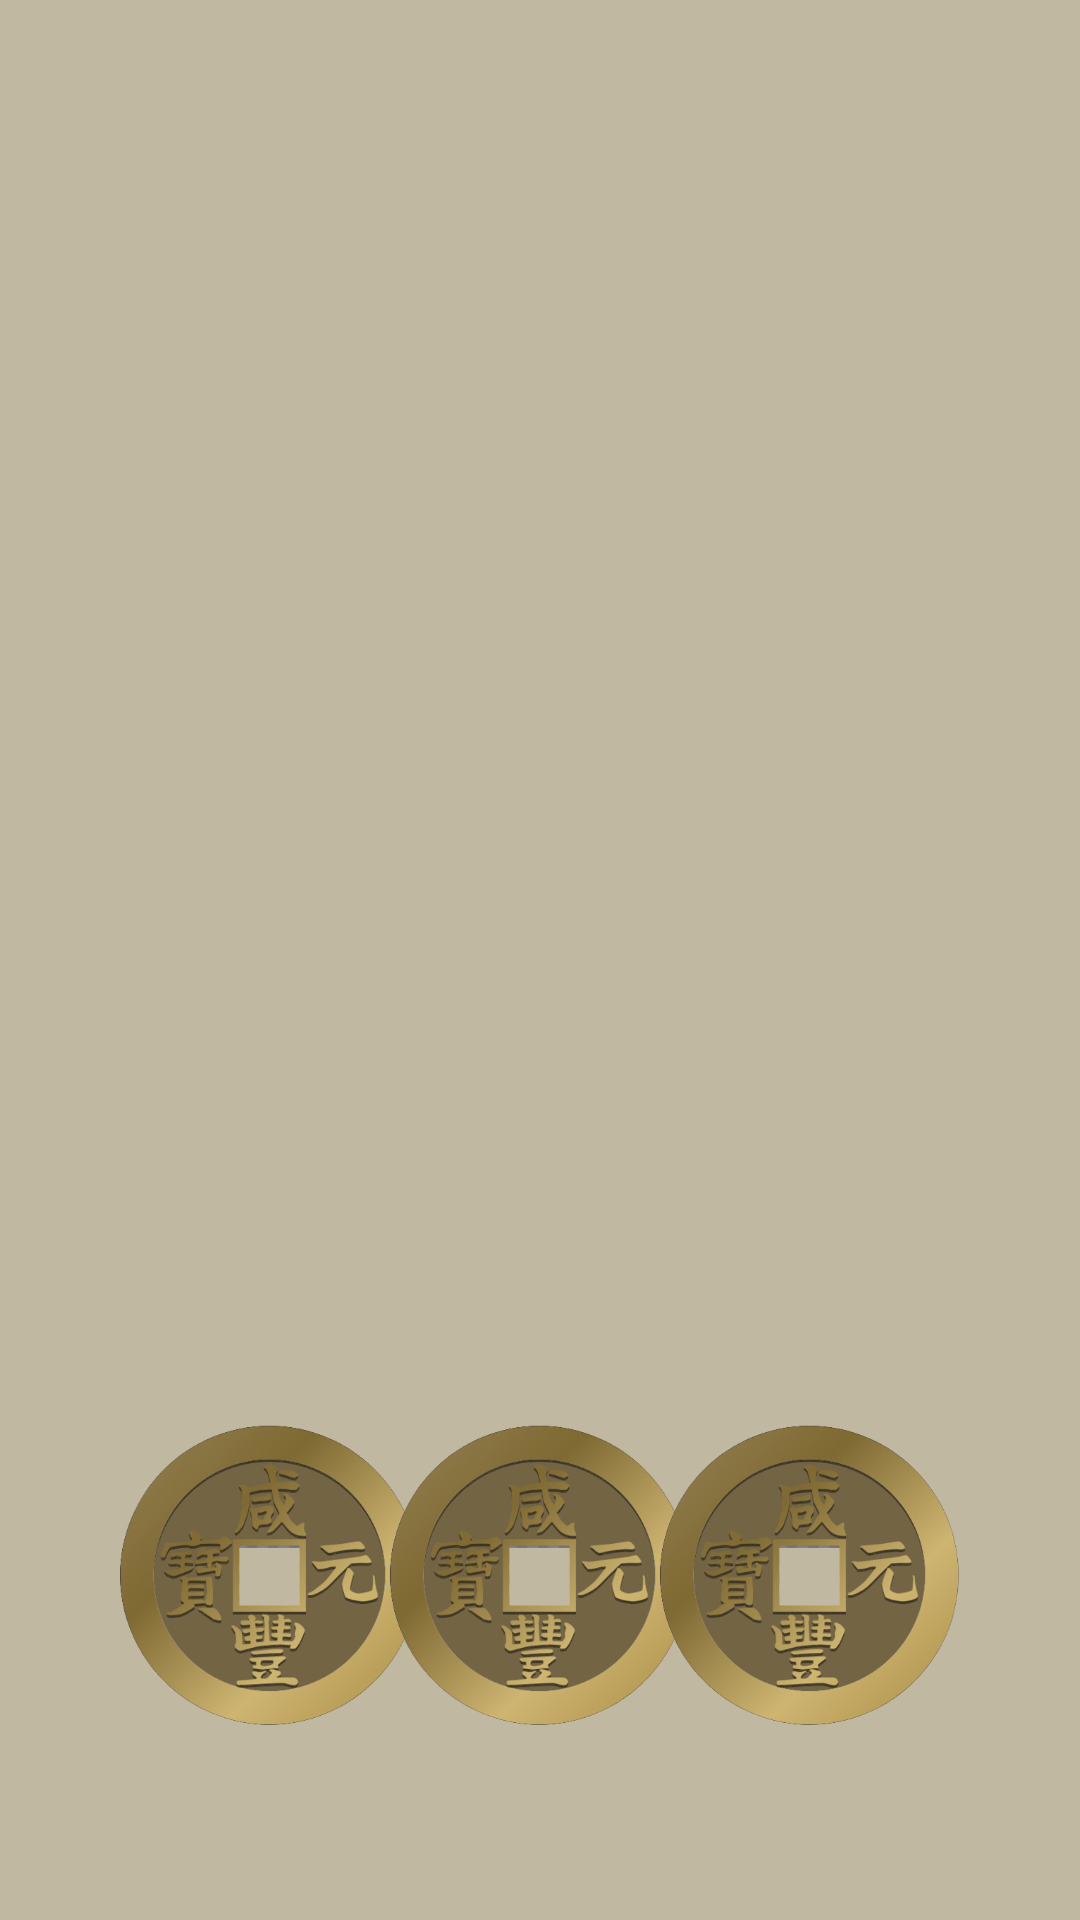

Where icons sit on this 1080×1920 app screen, as (x1, y1, x2, y2):
coin heads: (660, 1425, 959, 1725), (120, 1426, 420, 1725), (390, 1426, 690, 1725)
